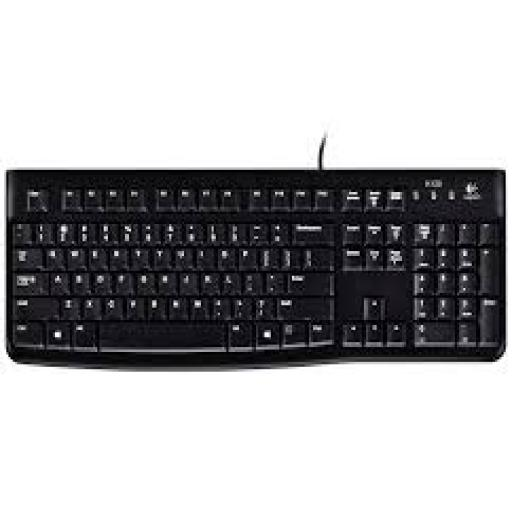KEYBOARD-2: (4, 167, 510, 367)
